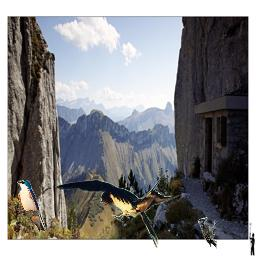Swallow: (53, 173, 197, 248), (17, 180, 46, 232)
Woodpecker: (198, 217, 218, 249)
